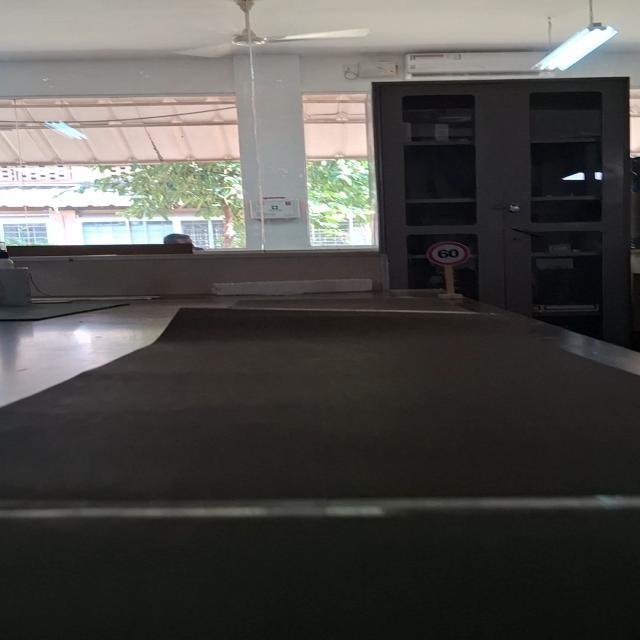Speed60: (426, 241, 471, 267)
